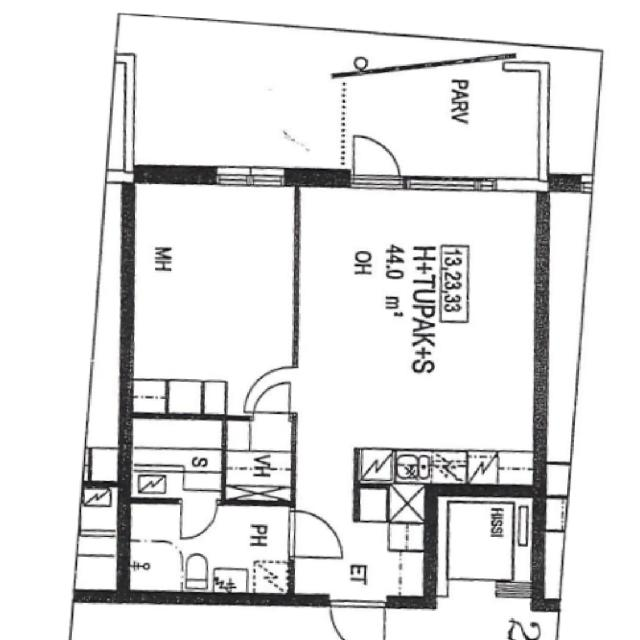door: (352, 121, 400, 186), (330, 590, 386, 640), (246, 367, 300, 412), (294, 512, 348, 557), (254, 380, 289, 419), (181, 499, 216, 538)
